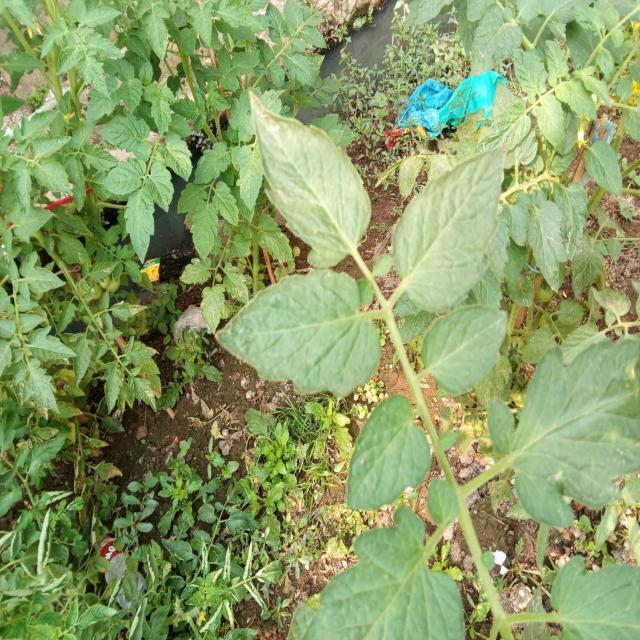Healthy: (213, 239, 410, 436), (220, 71, 393, 276), (374, 127, 524, 324), (500, 338, 640, 526), (290, 508, 464, 639), (404, 281, 524, 404), (345, 391, 435, 515), (528, 189, 567, 288), (98, 105, 161, 161), (99, 151, 154, 205), (529, 92, 576, 154), (185, 138, 238, 190), (582, 138, 624, 198), (185, 202, 226, 259), (203, 179, 251, 227), (125, 183, 154, 261), (512, 46, 551, 104), (280, 47, 318, 90)
